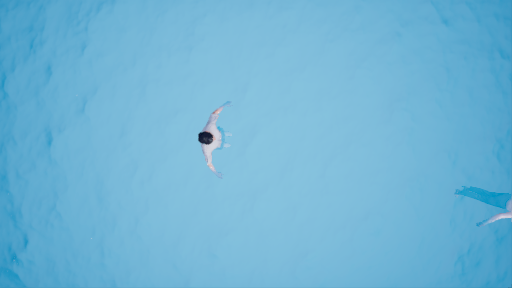person: (187, 97, 246, 178)
